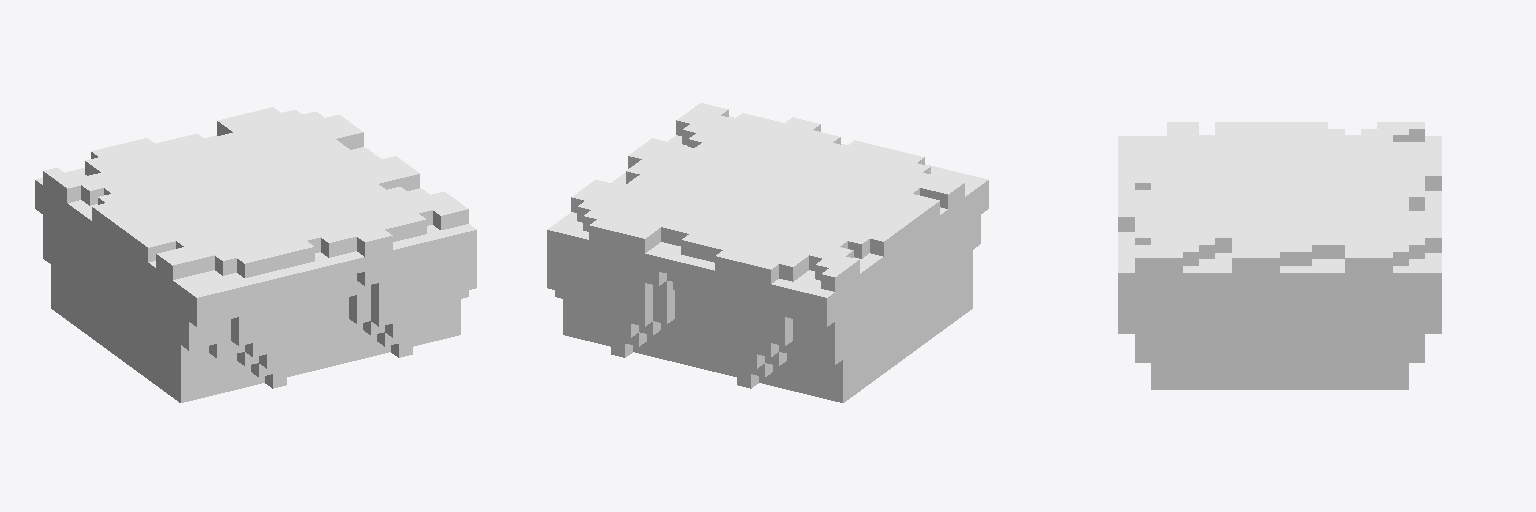
File: Floors-26.obj
3 views of the same model, side by side, from view 1: azimuth 30°, elevation 25°; view 2: azimuth 150°, elevation 25°; view 3: azimuth 270°, elevation 25° (orthographic).
Parts seen in each view (by area): view 1: object 1; view 2: object 1; view 3: object 1.
Part boxes in pixels (x1,y1,x2,y2): object 1: (35, 107, 476, 402); object 1: (547, 103, 988, 402); object 1: (1118, 122, 1441, 389).
Bounding box in the file's own units: 2 × 0.9 × 2.